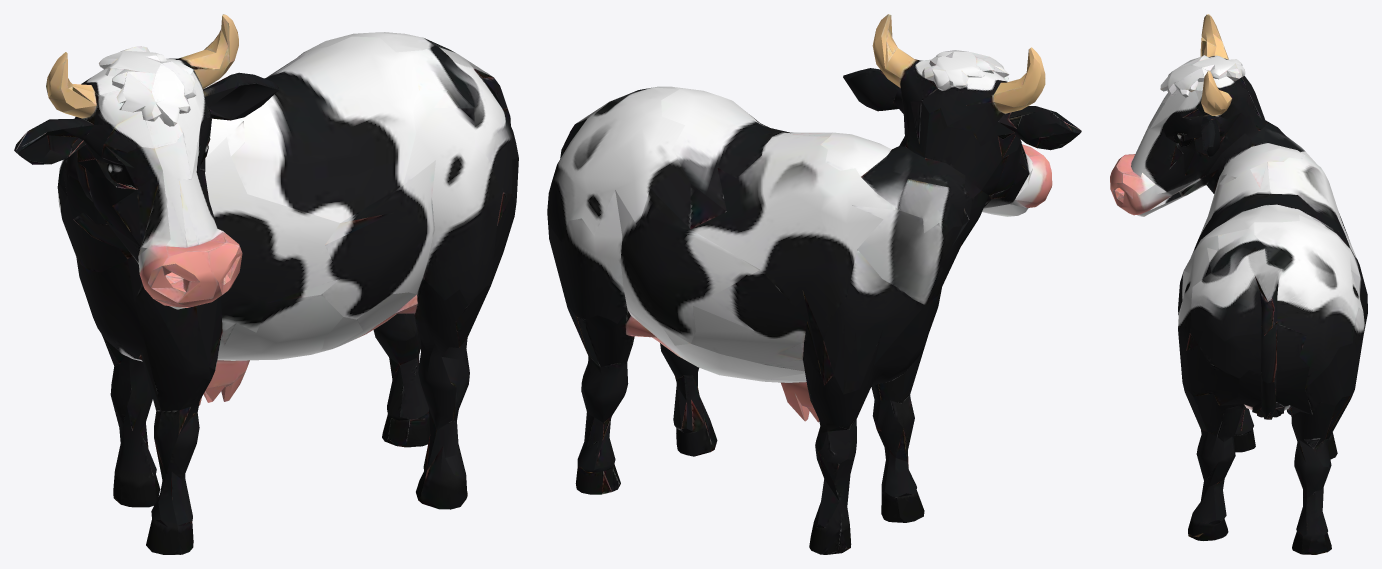
The model's file is cow.glb.
3 renders of one model, left to right at view 1: azimuth 30°, elevation 25°; view 2: azimuth 150°, elevation 25°; view 3: azimuth 270°, elevation 25°, orthographic. The views are drawn at different scales.
Size of the model in its own units: 1.9 by 1.81 by 1.09.
Materials: 1 (1 with a texture image).
